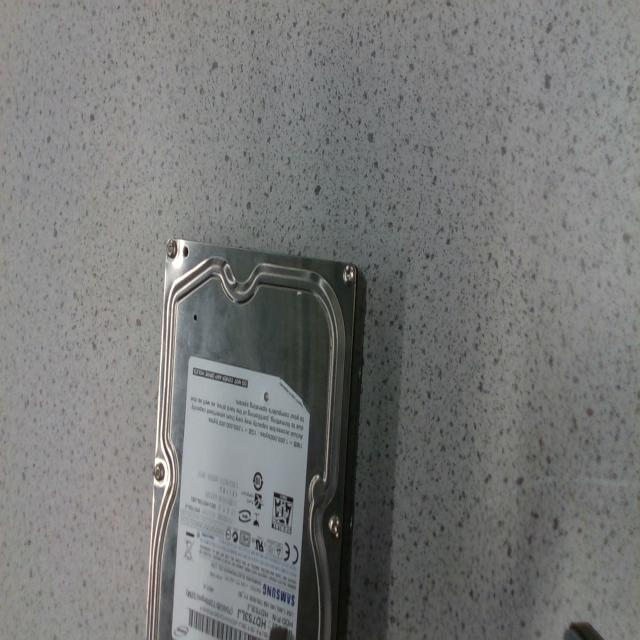case: (336, 270, 366, 639)
label: (172, 357, 309, 639)
lid: (148, 239, 356, 639)
screw: (328, 515, 341, 538), (343, 264, 356, 284), (166, 240, 177, 259), (154, 462, 164, 482)
